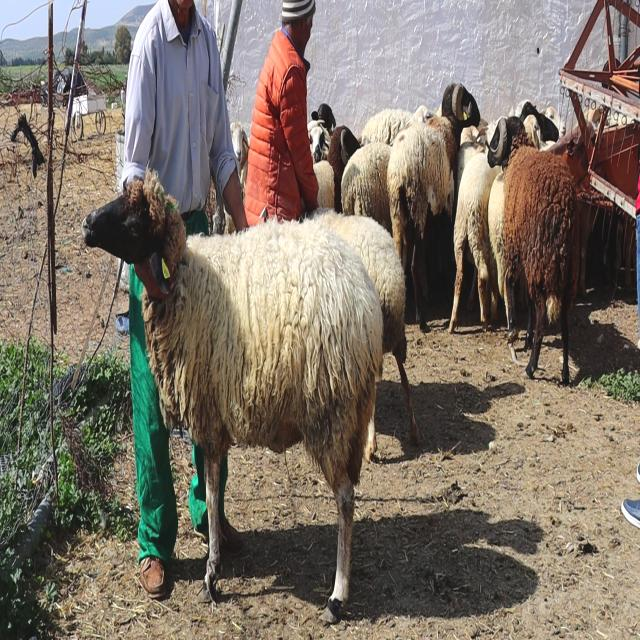Score_5: (82, 171, 382, 623)
